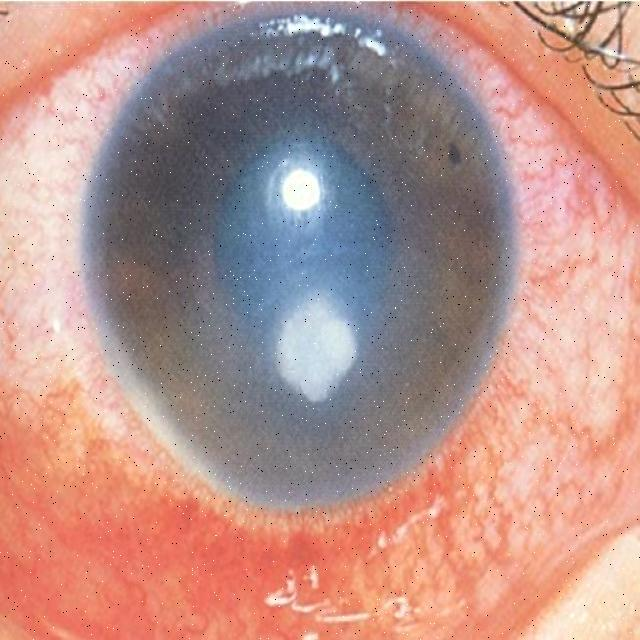Conjunctivitis: (0, 38, 640, 630)
